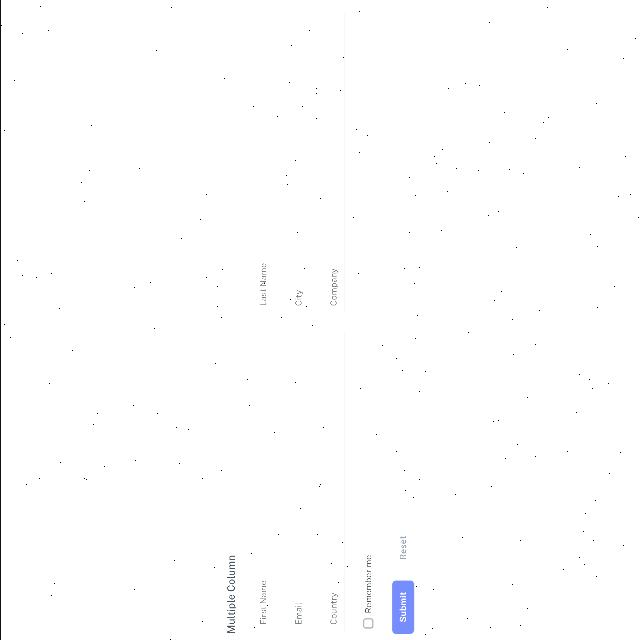QLabel: (226, 554, 237, 634), (363, 554, 372, 614), (399, 592, 406, 622), (399, 536, 406, 560)
VBtn: (391, 581, 413, 635), (391, 524, 413, 572)
VCard: (212, 0, 428, 640)
VCheckbox: (362, 618, 372, 630)
VTextField: (250, 328, 274, 634), (286, 329, 310, 635), (250, 10, 274, 316), (286, 10, 310, 316), (322, 328, 344, 634), (322, 10, 344, 316)
